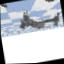drone: (18, 6, 61, 33)
